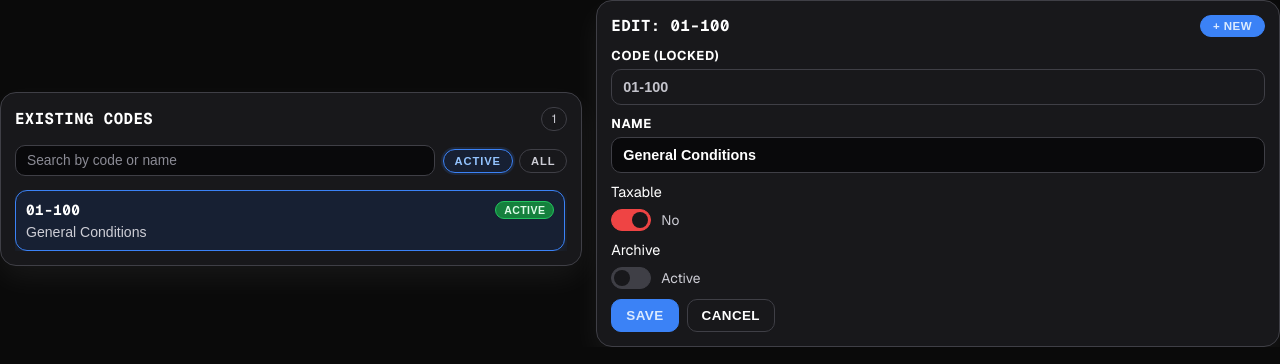
Test: CostCodesConsole › switches to create mode with + New button
Expected: the heading "Edit: 01-100" is shown, left=611, top=17, right=730, bottom=35
Click the button "+ New". click: (1232, 26)
box: left=1200, top=15, right=1265, bottom=37
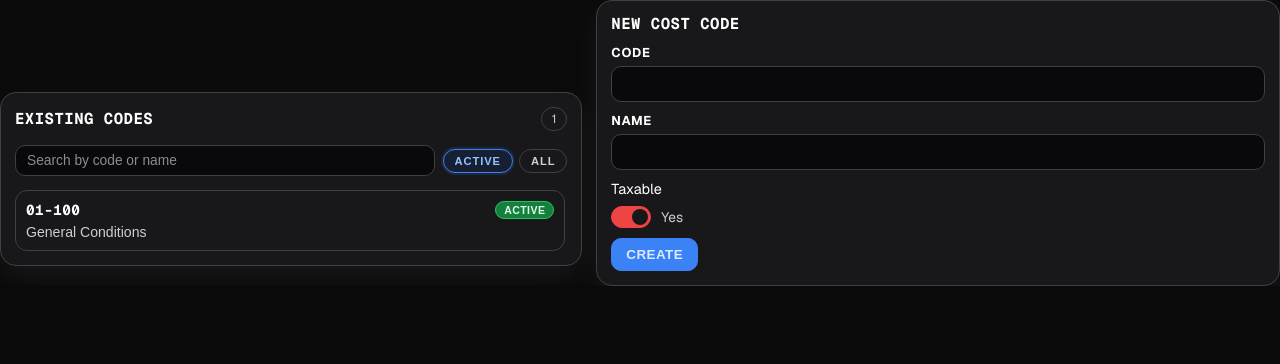
Expected: the heading "New Cost Code" is shown, left=611, top=15, right=740, bottom=34
